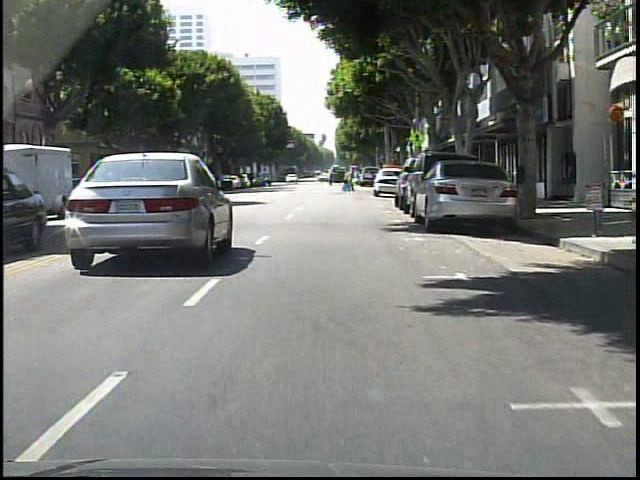person: (344, 165, 357, 192)
